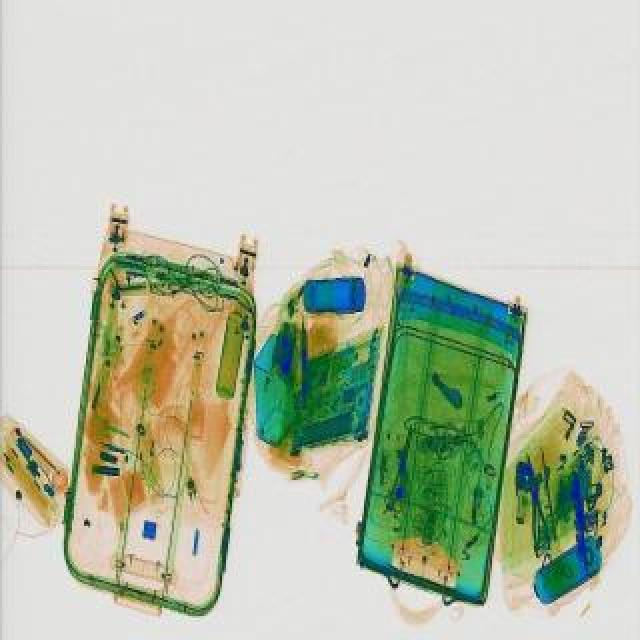pliers: (380, 422, 420, 510)
wrench: (516, 450, 552, 548)
